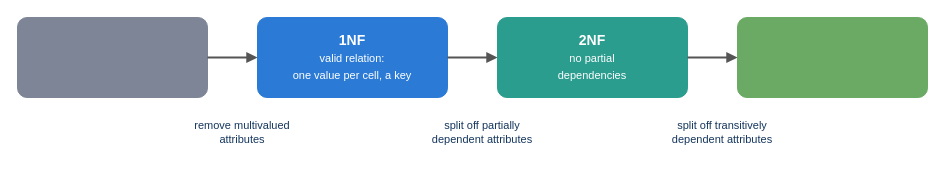
This 945x170 diagram has some shape labels left out. Here are the shapes that lost their labels. From the top down, the centre of each, then its label:
At pixel 112 57: "Unnormalized several values in a cell".
At pixel 832 57: "3NF no transitive dependencies".
